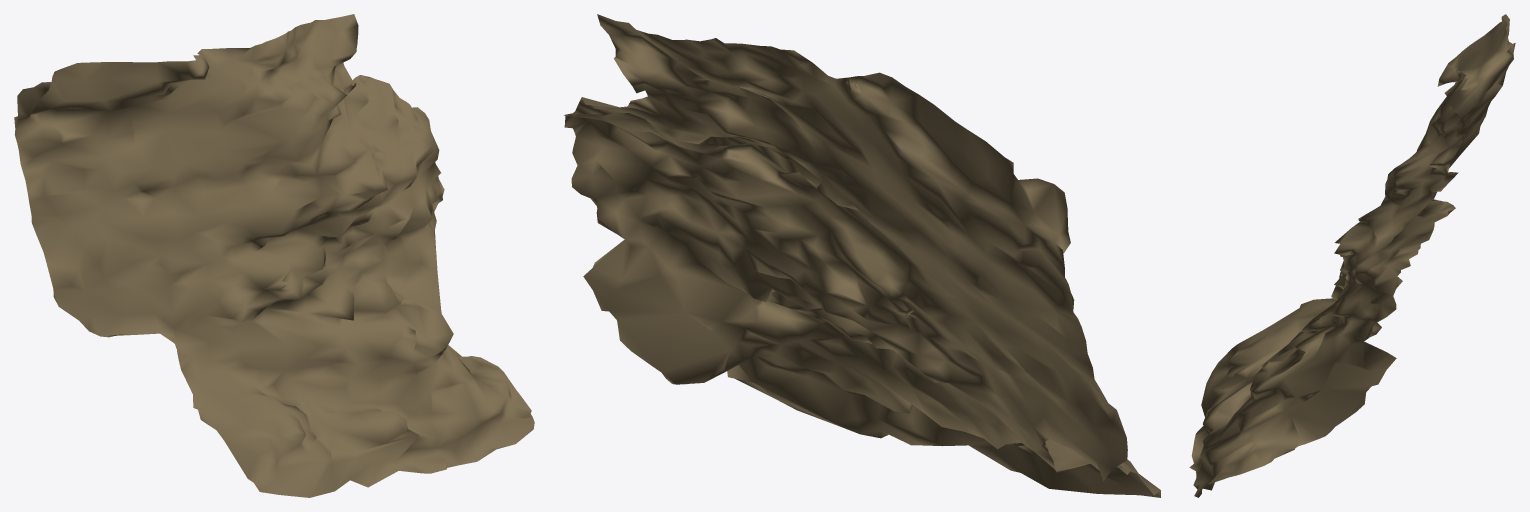
File: OutcropStepped.gltf
The picture shows the model from 3 angles, left to right: view 1: azimuth 30°, elevation 25°; view 2: azimuth 150°, elevation 25°; view 3: azimuth 270°, elevation 25°; orthographic projection. The views are drawn at different scales.
Parts seen in each view (by area): view 1: lo; view 2: lo; view 3: lo.
Boxes of the visible parts, box(x1,y1,x2,y2) form: lo: box(14, 14, 534, 497); lo: box(564, 14, 1160, 497); lo: box(1189, 14, 1515, 497).
Bounding box in the file's own units: 3.2 × 2.93 × 2.51.
